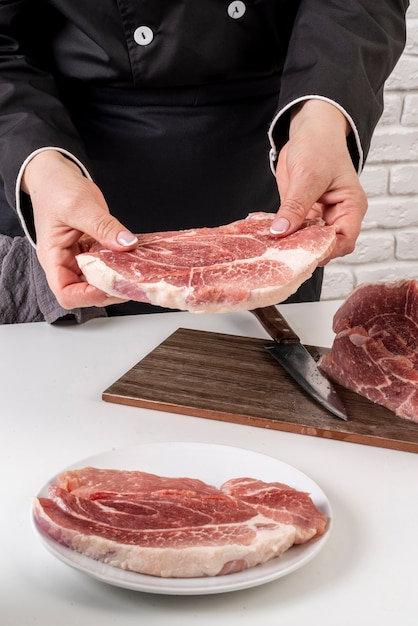knife: (250, 305, 352, 425)
